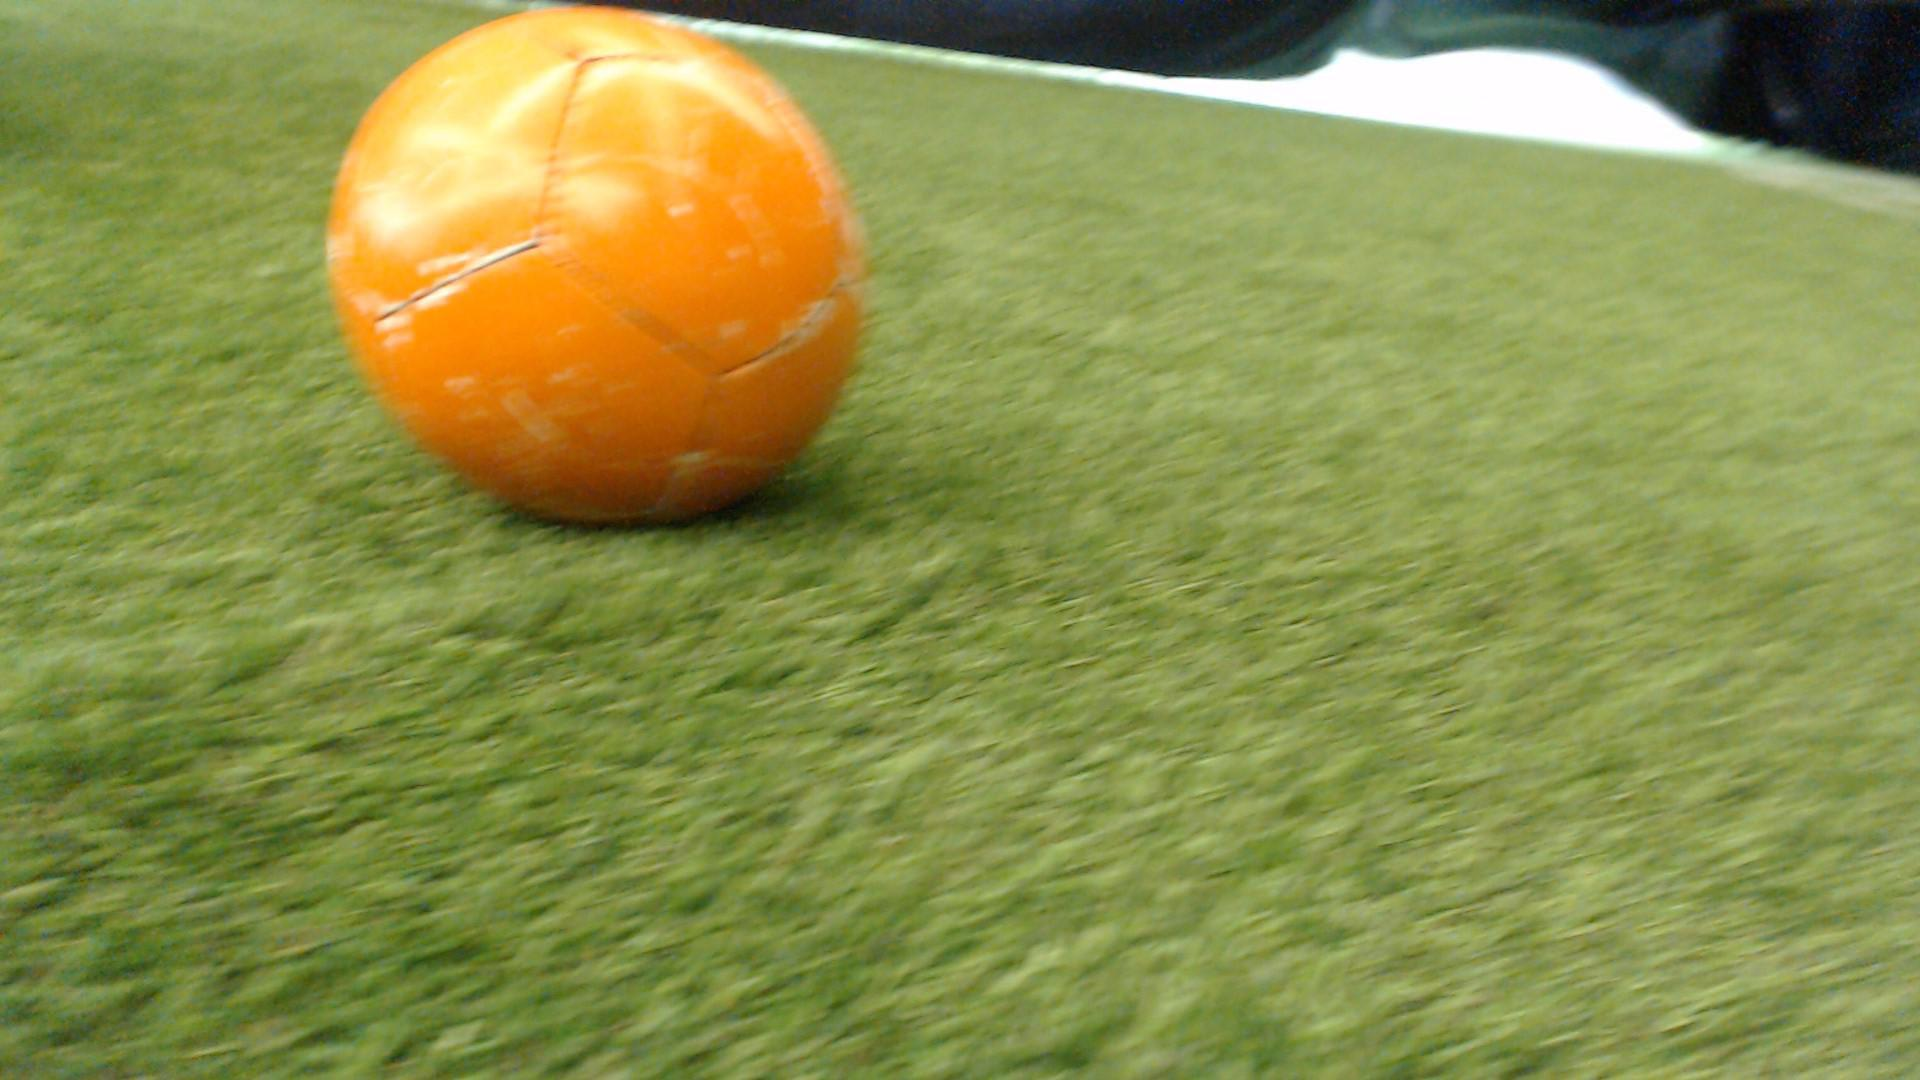bola: (307, 0, 894, 551)
